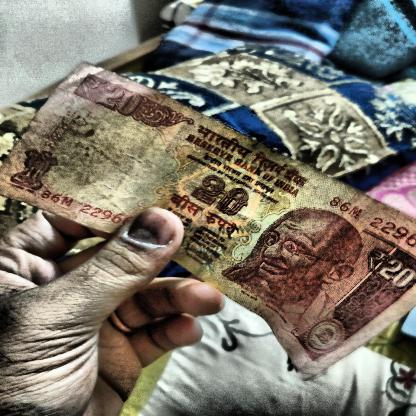Rs20: (71, 72, 152, 122), (184, 169, 258, 221), (355, 244, 416, 296)
